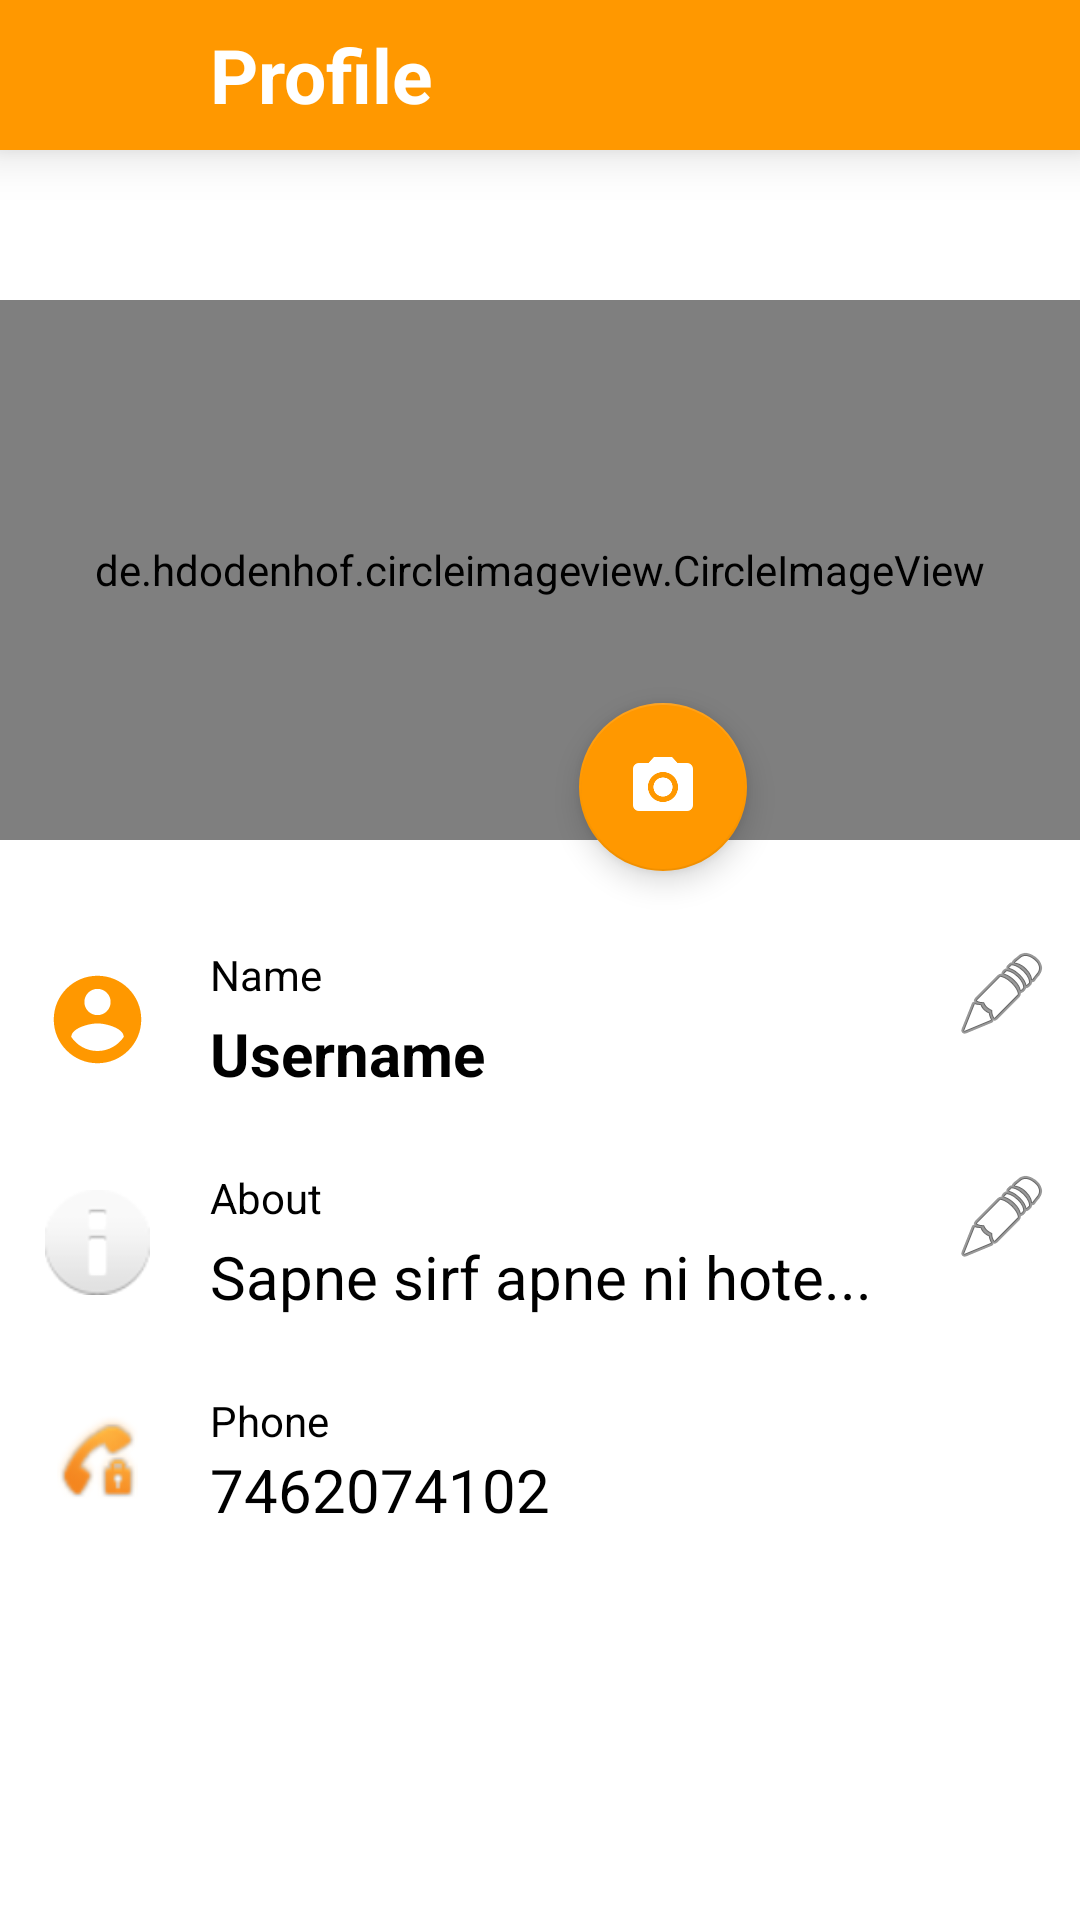

Screen size 1080*1920. Icon name, then its box in pixels as (x1, y1, x2, y2):
account circle: (53, 975, 142, 1064)
camera: (579, 703, 747, 871)
info: (45, 1209, 150, 1295)
